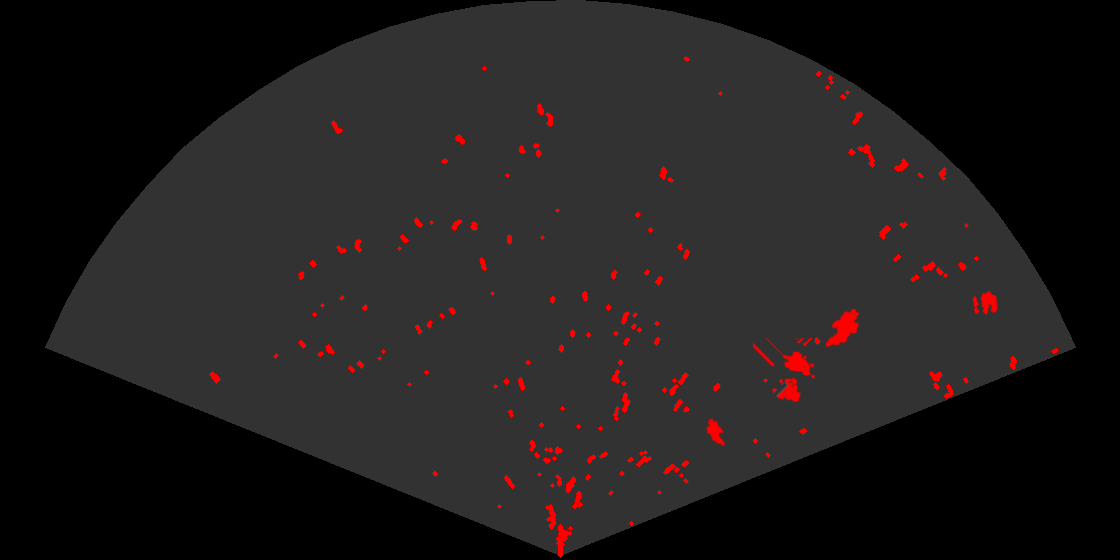AUV: (824, 307, 861, 349), (705, 417, 727, 448)
ball: (971, 290, 999, 316)
cage: (753, 338, 817, 404)
